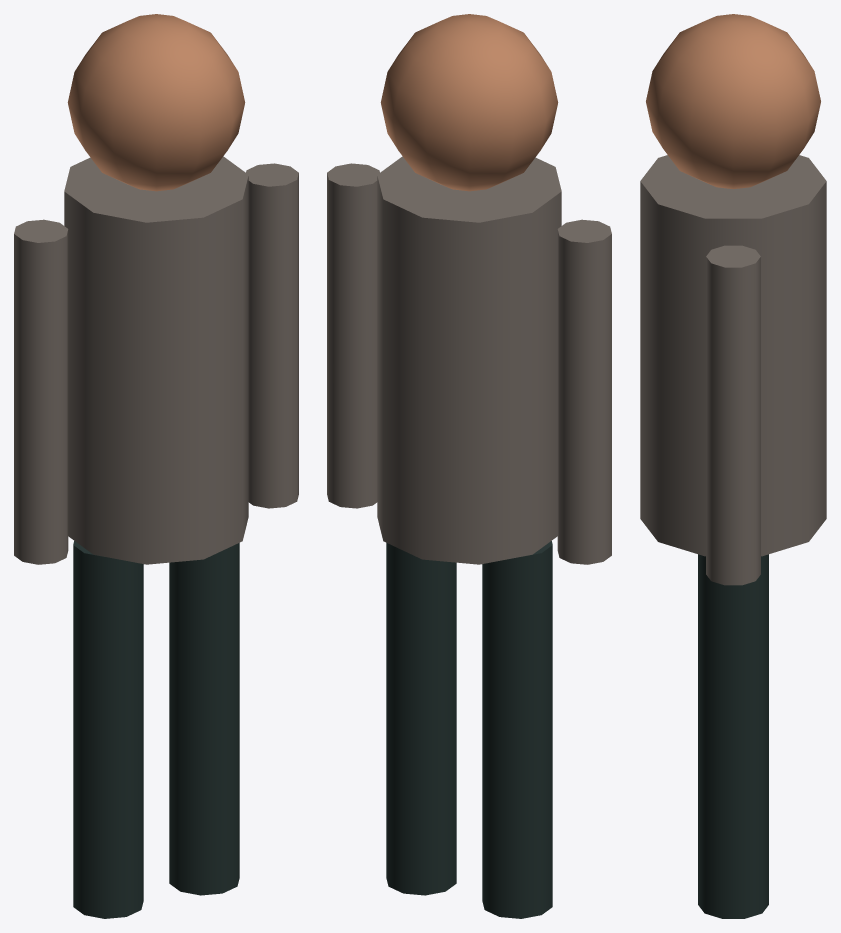
File: pedestrian-senior.glb
3 views of the same model, side by side, from view 1: azimuth 30°, elevation 25°; view 2: azimuth 150°, elevation 25°; view 3: azimuth 270°, elevation 25° (orthographic).
Visible parts, largest first — view 1: pedestrian-senior; view 2: pedestrian-senior; view 3: pedestrian-senior.
Part boxes in pixels (left/top/right/bottom): pedestrian-senior: left=14, top=14, right=298, bottom=918; pedestrian-senior: left=327, top=14, right=611, bottom=918; pedestrian-senior: left=640, top=14, right=826, bottom=918.
Size of the model in its own units: 0.5751 by 1.73 by 0.34.
